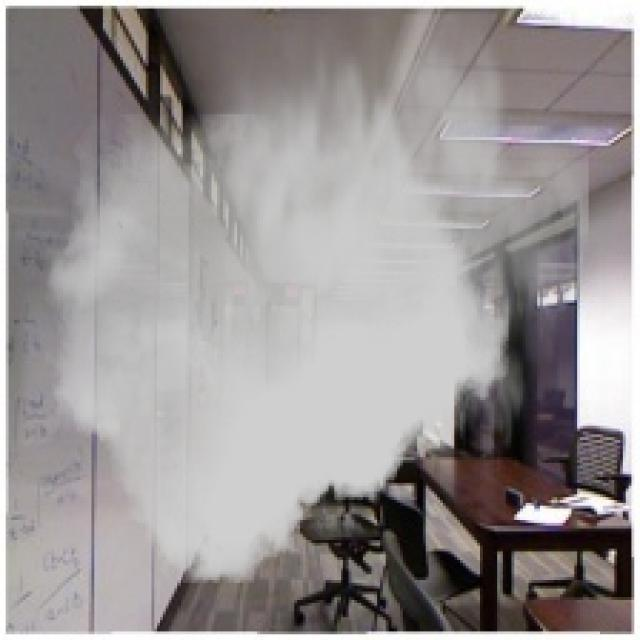smoke: (46, 14, 588, 583)
